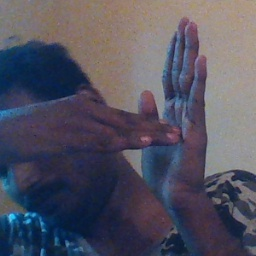Z: (96, 17, 211, 200)
